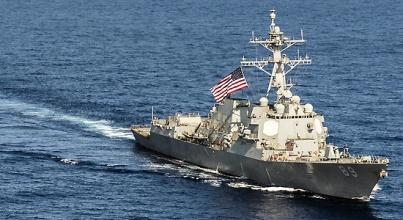warship: (132, 4, 389, 206)
